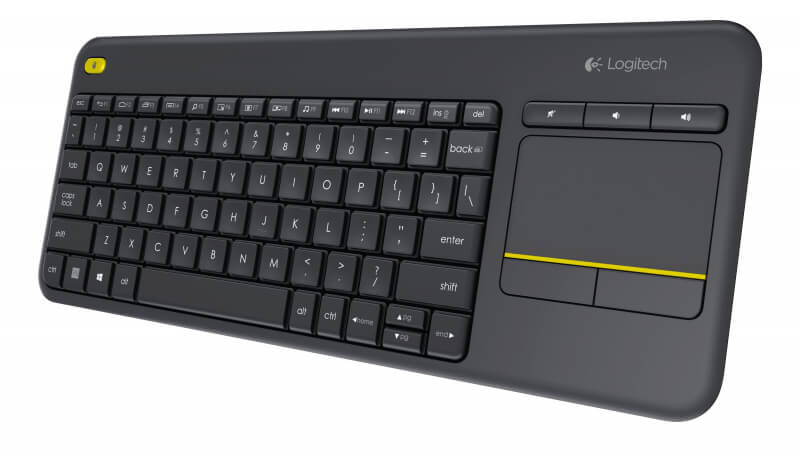logitech-keyboard-k400: (31, 21, 759, 419)
